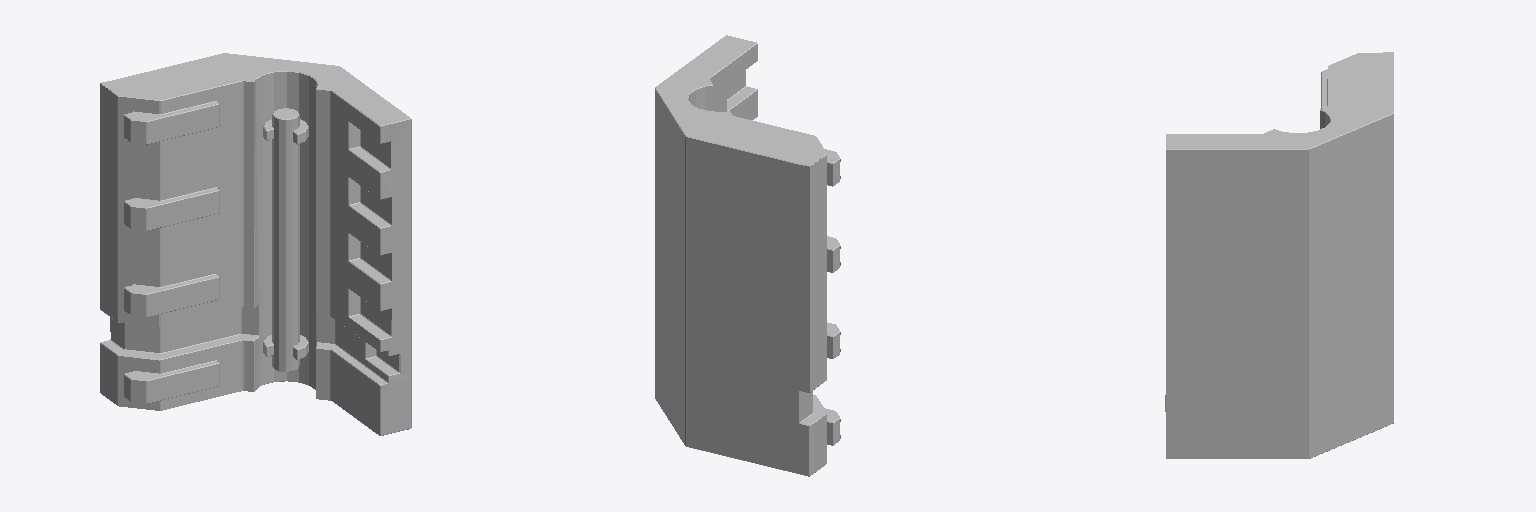
The model's file is Corner2x2_01.obj.
The picture shows the model from 3 angles: view 1: azimuth 30°, elevation 25°; view 2: azimuth 150°, elevation 25°; view 3: azimuth 270°, elevation 25°; orthographic projection.
Visible parts, largest first — view 1: Corner2x2_01_LOD0_Plane; view 2: Corner2x2_01_LOD0_Plane; view 3: Corner2x2_01_LOD0_Plane.
Part boxes in pixels (left/top/right/bottom): Corner2x2_01_LOD0_Plane: left=100, top=53, right=411, bottom=435; Corner2x2_01_LOD0_Plane: left=655, top=35, right=840, bottom=476; Corner2x2_01_LOD0_Plane: left=1165, top=52, right=1393, bottom=458.
Size of the model in its own units: 2.01 by 3 by 2.01.